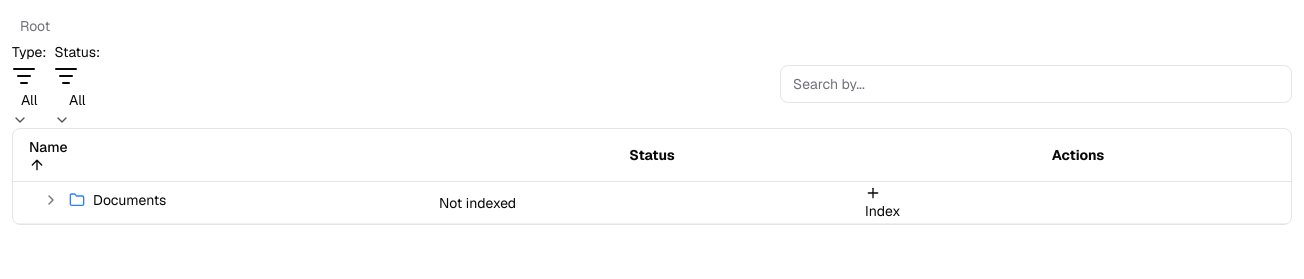
FilePickerGoogleDriveContainer › Folder / children › should be able to collapse a folder and not see its content
expect the text "Documents" is shown: met, box [93,190,166,210]
Click the button with aria-label "Documents, folder, collapsed" at {"x": 104, "y": 200}, box [41,190,166,210]
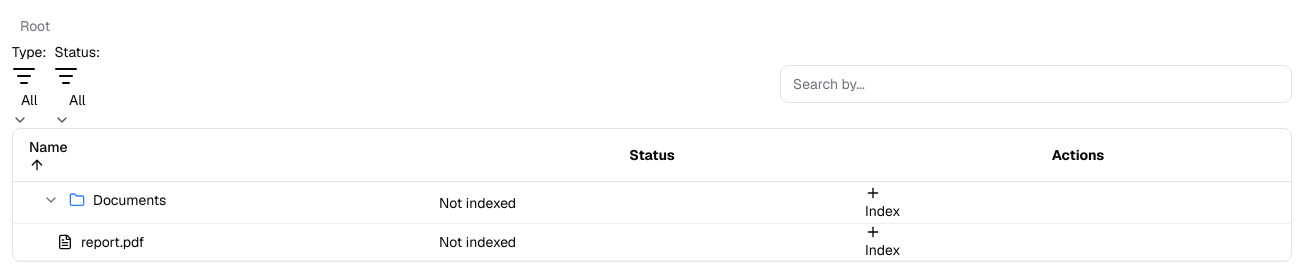
expect the text "report.pdf" is shown: met, box [81,232,144,252]
Click the button with aria-label "Documents, folder, expanded" at {"x": 104, "y": 200}, box [41,190,166,210]
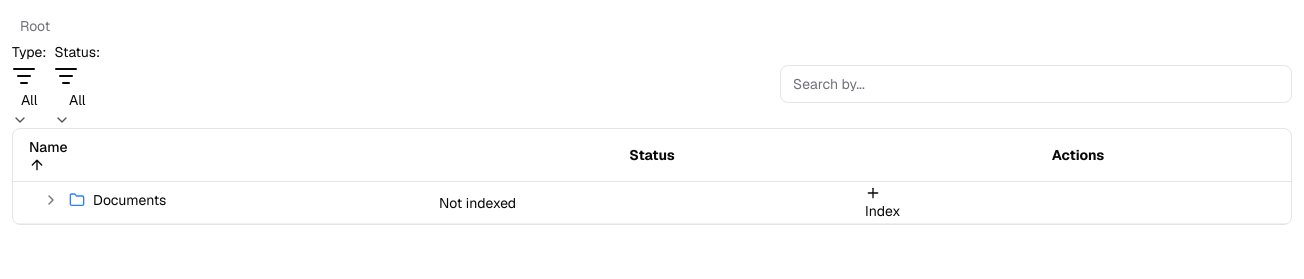
expect the text "report.pdf" is gone: met
